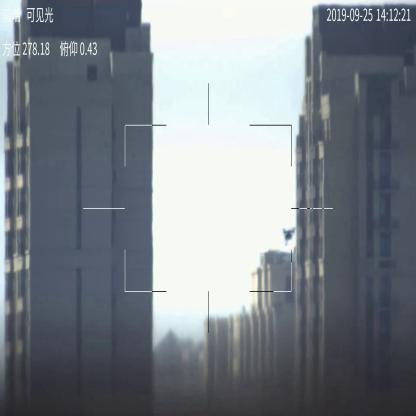uav: (280, 224, 296, 245)
